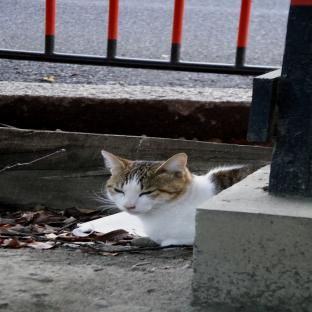Animal: (101, 151, 268, 246)
